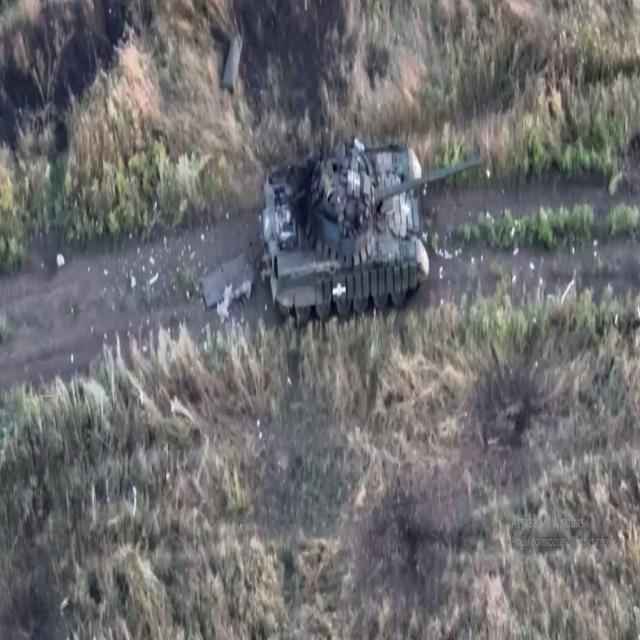MBT: (255, 132, 484, 329)
